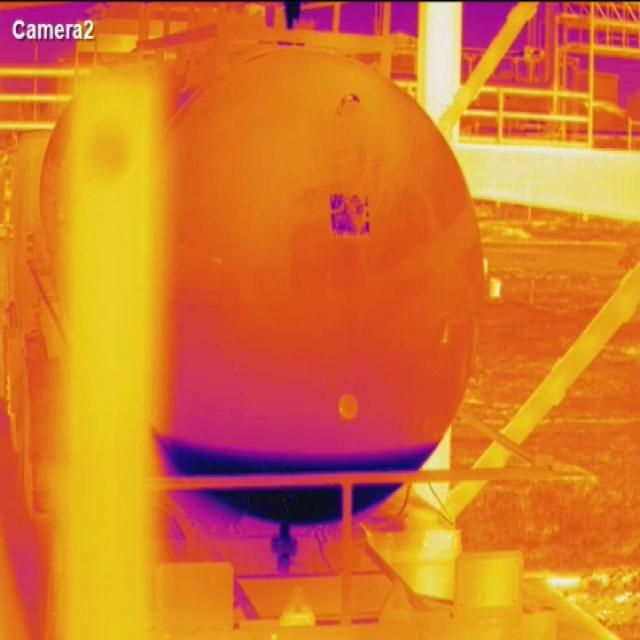tank: (154, 49, 485, 525)
